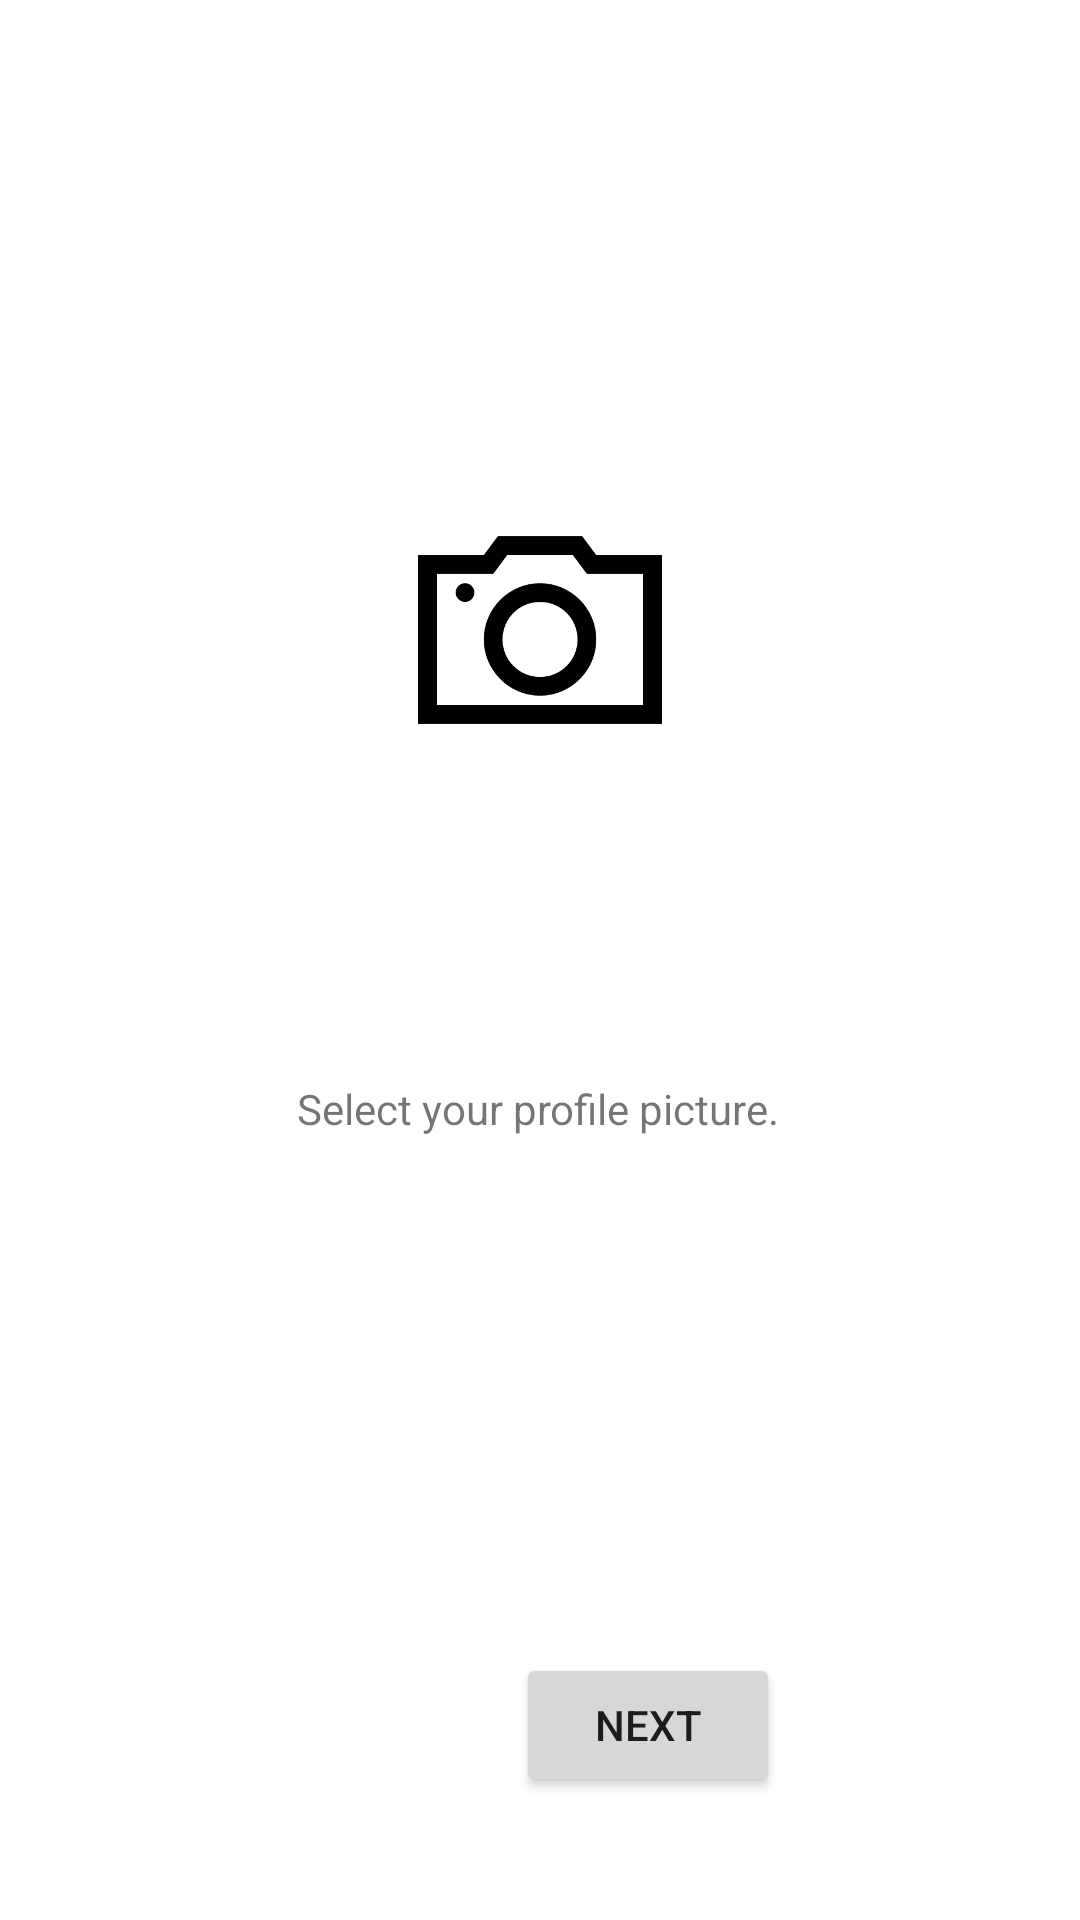

Named icons in this screenshot (1080 x 1920) and their centers, (x=x, y=y):
camera: (x=540, y=630)
